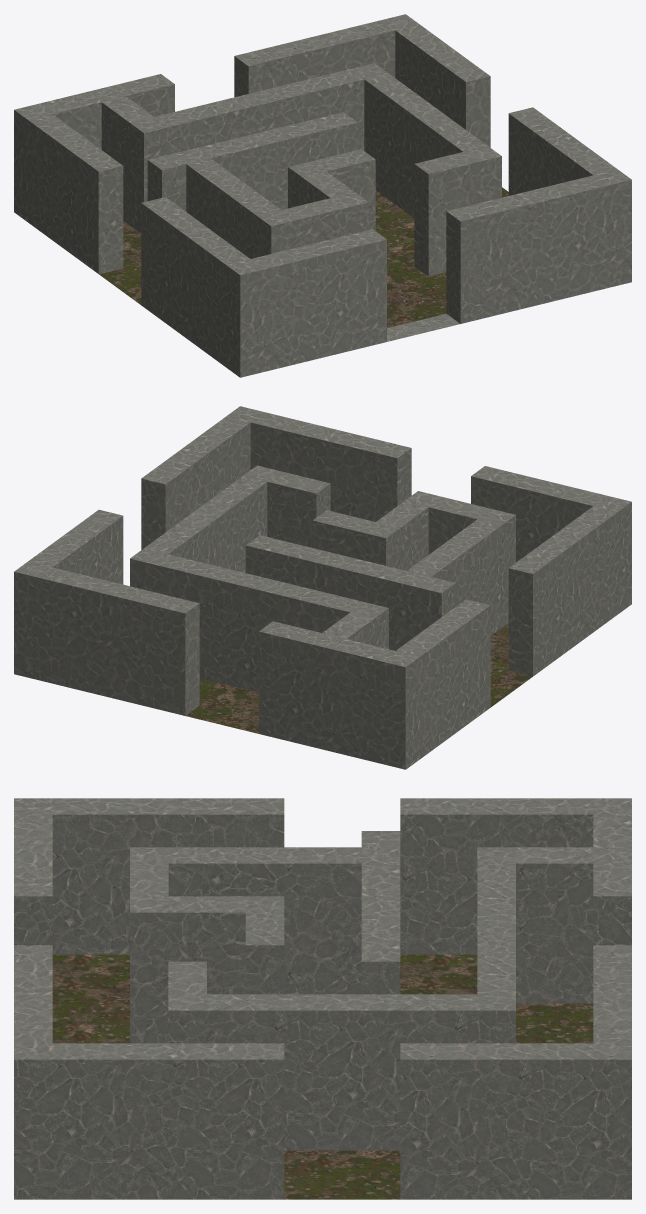
File: maze1.fbx
3 views of the same model, one above another, from view 1: azimuth 30°, elevation 25°; view 2: azimuth 150°, elevation 25°; view 3: azimuth 270°, elevation 25° (orthographic). The views are drawn at different scales.
Visible parts, largest first — view 1: Maze 1.001; view 2: Maze 1.001; view 3: Maze 1.001.
Boxes of the visible parts, box(x1,y1,x2,y2) form: Maze 1.001: box(14, 14, 631, 377); Maze 1.001: box(14, 406, 631, 769); Maze 1.001: box(14, 798, 631, 1199).
Bounding box in the file's own units: 1600 × 400 × 1600.
